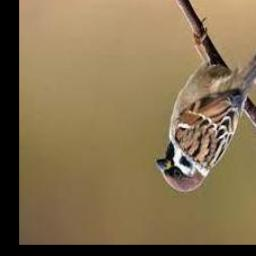Sparrow: (156, 24, 256, 192)
